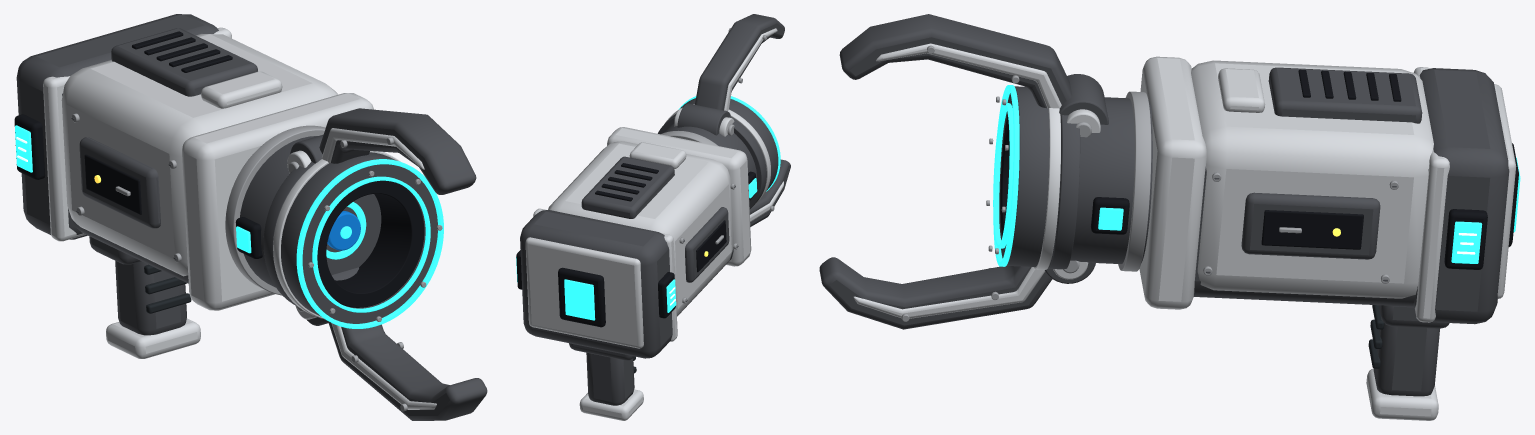
Rendered from CubeEscape_PortalGun_FPS.glb.
3 views of the same model, side by side, from view 1: azimuth 30°, elevation 25°; view 2: azimuth 150°, elevation 25°; view 3: azimuth 270°, elevation 25° (orthographic). The views are drawn at different scales.
Visible parts, largest first — view 1: SM_PG_MainShell, SM_PG_FrontCuff, SM_PG_EmitterOuterLip, SM_PG_BoreLiner, SM_PG_RearCuff, SM_PG_UpperArmSpine, SM_PG_LowerArmSpine, SM_PG_TopServiceRail, SM_PG_EmitterNeck, SM_PG_Grip, SM_PG_RearBand, SM_PG_SidePanel_L (+19 smaller); view 2: SM_PG_MainShell, SM_PG_RearCuff, SM_PG_RearEndArmor, SM_PG_FrontCuff, SM_PG_UpperArmSpine, SM_PG_TopServiceRail, SM_PG_Grip, SM_PG_RearDisplayBezel, SM_PG_SidePanel_L, SM_PG_BarrelFrontBand, SM_PG_RearDisplay, SM_PG_UpperHinge (+14 smaller); view 3: SM_PG_MainShell, SM_PG_RearCuff, SM_PG_FrontCuff, SM_PG_UpperArmSpine, SM_PG_LowerArmSpine, SM_PG_EmitterNeck, SM_PG_TopServiceRail, SM_PG_EmitterOuterLip, SM_PG_SidePanel_R, SM_PG_Grip, SM_PG_PanelInset_R, SM_PG_RearBand (+17 smaller).
Boxes of the visible parts, <box> form: SM_PG_MainShell: <box>61,34,337,276</box>; SM_PG_FrontCuff: <box>182,93,373,310</box>; SM_PG_EmitterOuterLip: <box>281,152,437,323</box>; SM_PG_BoreLiner: <box>317,180,424,307</box>; SM_PG_RearCuff: <box>16,14,218,239</box>; SM_PG_UpperArmSpine: <box>319,108,476,194</box>; SM_PG_LowerArmSpine: <box>328,322,487,420</box>; SM_PG_TopServiceRail: <box>111,28,257,96</box>; SM_PG_EmitterNeck: <box>240,136,381,287</box>; SM_PG_Grip: <box>115,261,186,335</box>; SM_PG_RearBand: <box>43,27,231,241</box>; SM_PG_SidePanel_L: <box>79,137,160,228</box>; SM_PG_MainShell: <box>548,141,733,315</box>; SM_PG_RearCuff: <box>520,210,672,358</box>; SM_PG_RearEndArmor: <box>525,237,643,348</box>; SM_PG_FrontCuff: <box>607,127,751,266</box>; SM_PG_UpperArmSpine: <box>695,14,784,110</box>; SM_PG_TopServiceRail: <box>581,156,674,218</box>; SM_PG_Grip: <box>586,352,634,405</box>; SM_PG_RearDisplayBezel: <box>558,267,605,327</box>; SM_PG_SidePanel_L: <box>685,207,729,282</box>; SM_PG_BarrelFrontBand: <box>658,114,766,209</box>; SM_PG_RearDisplay: <box>564,279,595,320</box>; SM_PG_UpperHinge: <box>677,103,730,135</box>; SM_PG_MainShell: <box>1191,60,1433,298</box>; SM_PG_RearCuff: <box>1413,68,1509,324</box>; SM_PG_FrontCuff: <box>1139,56,1207,309</box>; SM_PG_UpperArmSpine: <box>839,14,1072,108</box>; SM_PG_LowerArmSpine: <box>819,257,1052,329</box>; SM_PG_EmitterNeck: <box>1070,97,1152,263</box>; SM_PG_TopServiceRail: <box>1268,67,1422,123</box>; SM_PG_EmitterOuterLip: <box>999,86,1049,266</box>; SM_PG_SidePanel_R: <box>1241,192,1380,259</box>; SM_PG_Grip: <box>1373,323,1439,396</box>; SM_PG_PanelInset_R: <box>1261,210,1363,249</box>; SM_PG_RearBand: <box>1413,67,1449,322</box>.
Size of the model in its own units: 0.3521 by 0.5841 by 0.9239.
